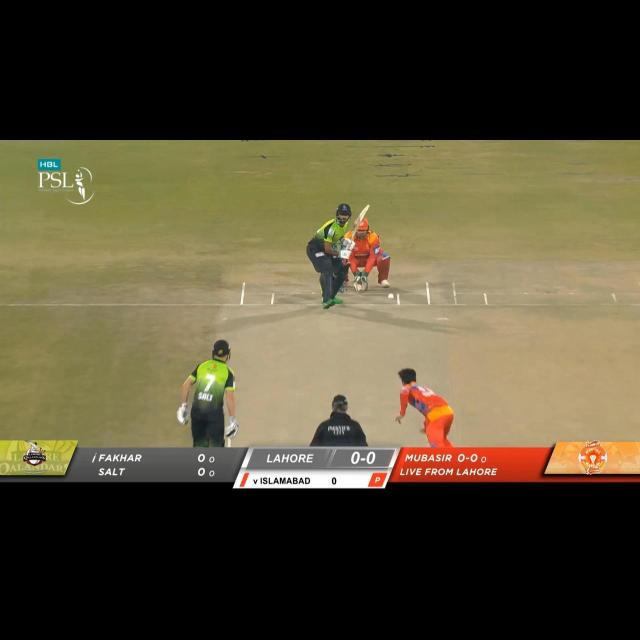bat: (348, 204, 370, 242)
toe: (360, 204, 371, 214)
